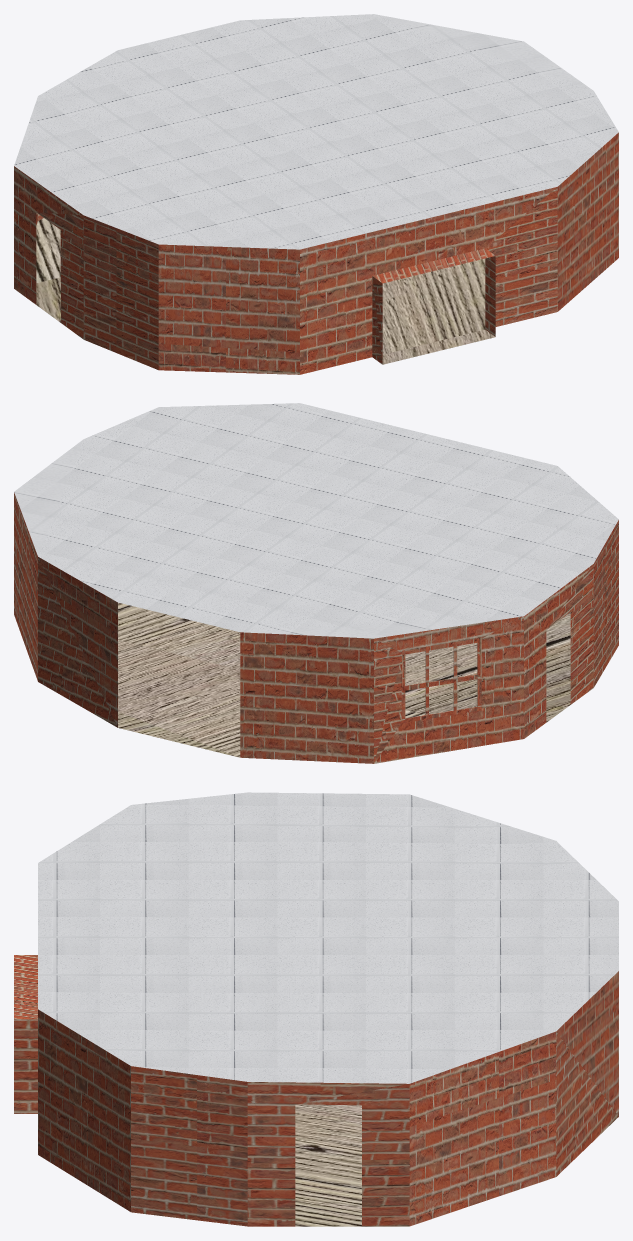
The model's file is Atrium.glb.
3 renders of one model, top to bottom at view 1: azimuth 30°, elevation 25°; view 2: azimuth 150°, elevation 25°; view 3: azimuth 270°, elevation 25°, orthographic. The views are drawn at different scales.
Visible parts, largest first — view 1: Cube.002-col; view 2: Cube.002-col; view 3: Cube.002-col.
Part boxes in pixels (bbox=[...]): Cube.002-col: bbox=[14, 14, 618, 374]; Cube.002-col: bbox=[14, 403, 618, 763]; Cube.002-col: bbox=[14, 792, 618, 1226].
Size of the model in its own units: 17.31 by 4.08 by 15.29.
3 materials, 3 textured.
